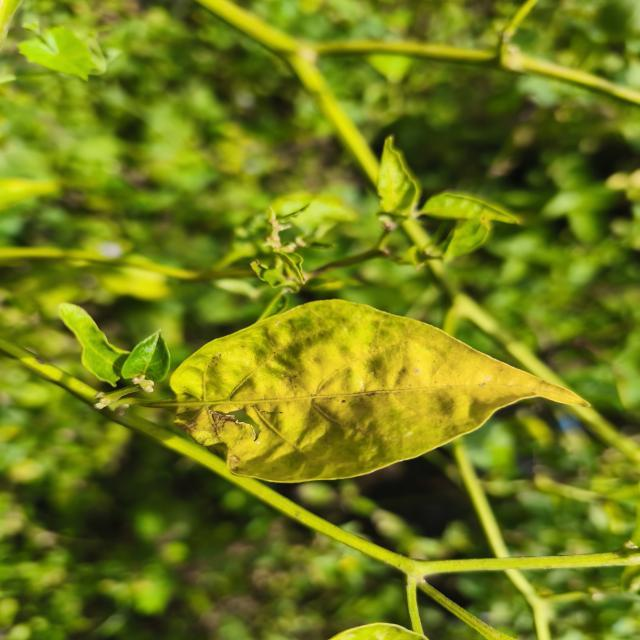Virus Kuning: (166, 297, 592, 484)
